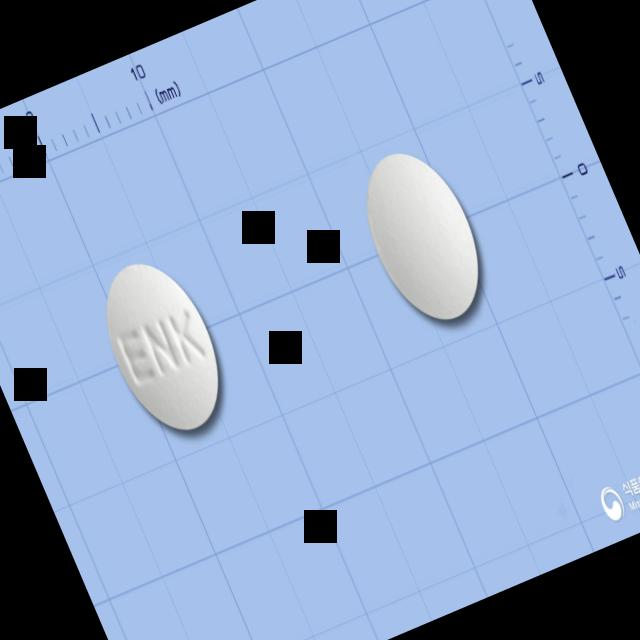Levoflo: (83, 245, 242, 446)
